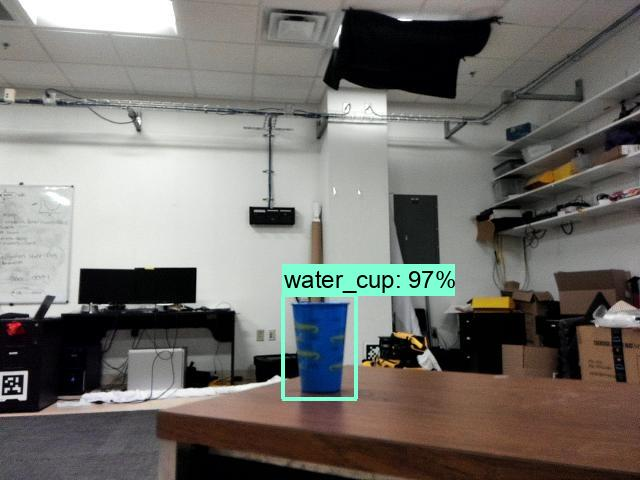water_cup: (282, 300, 358, 396)
